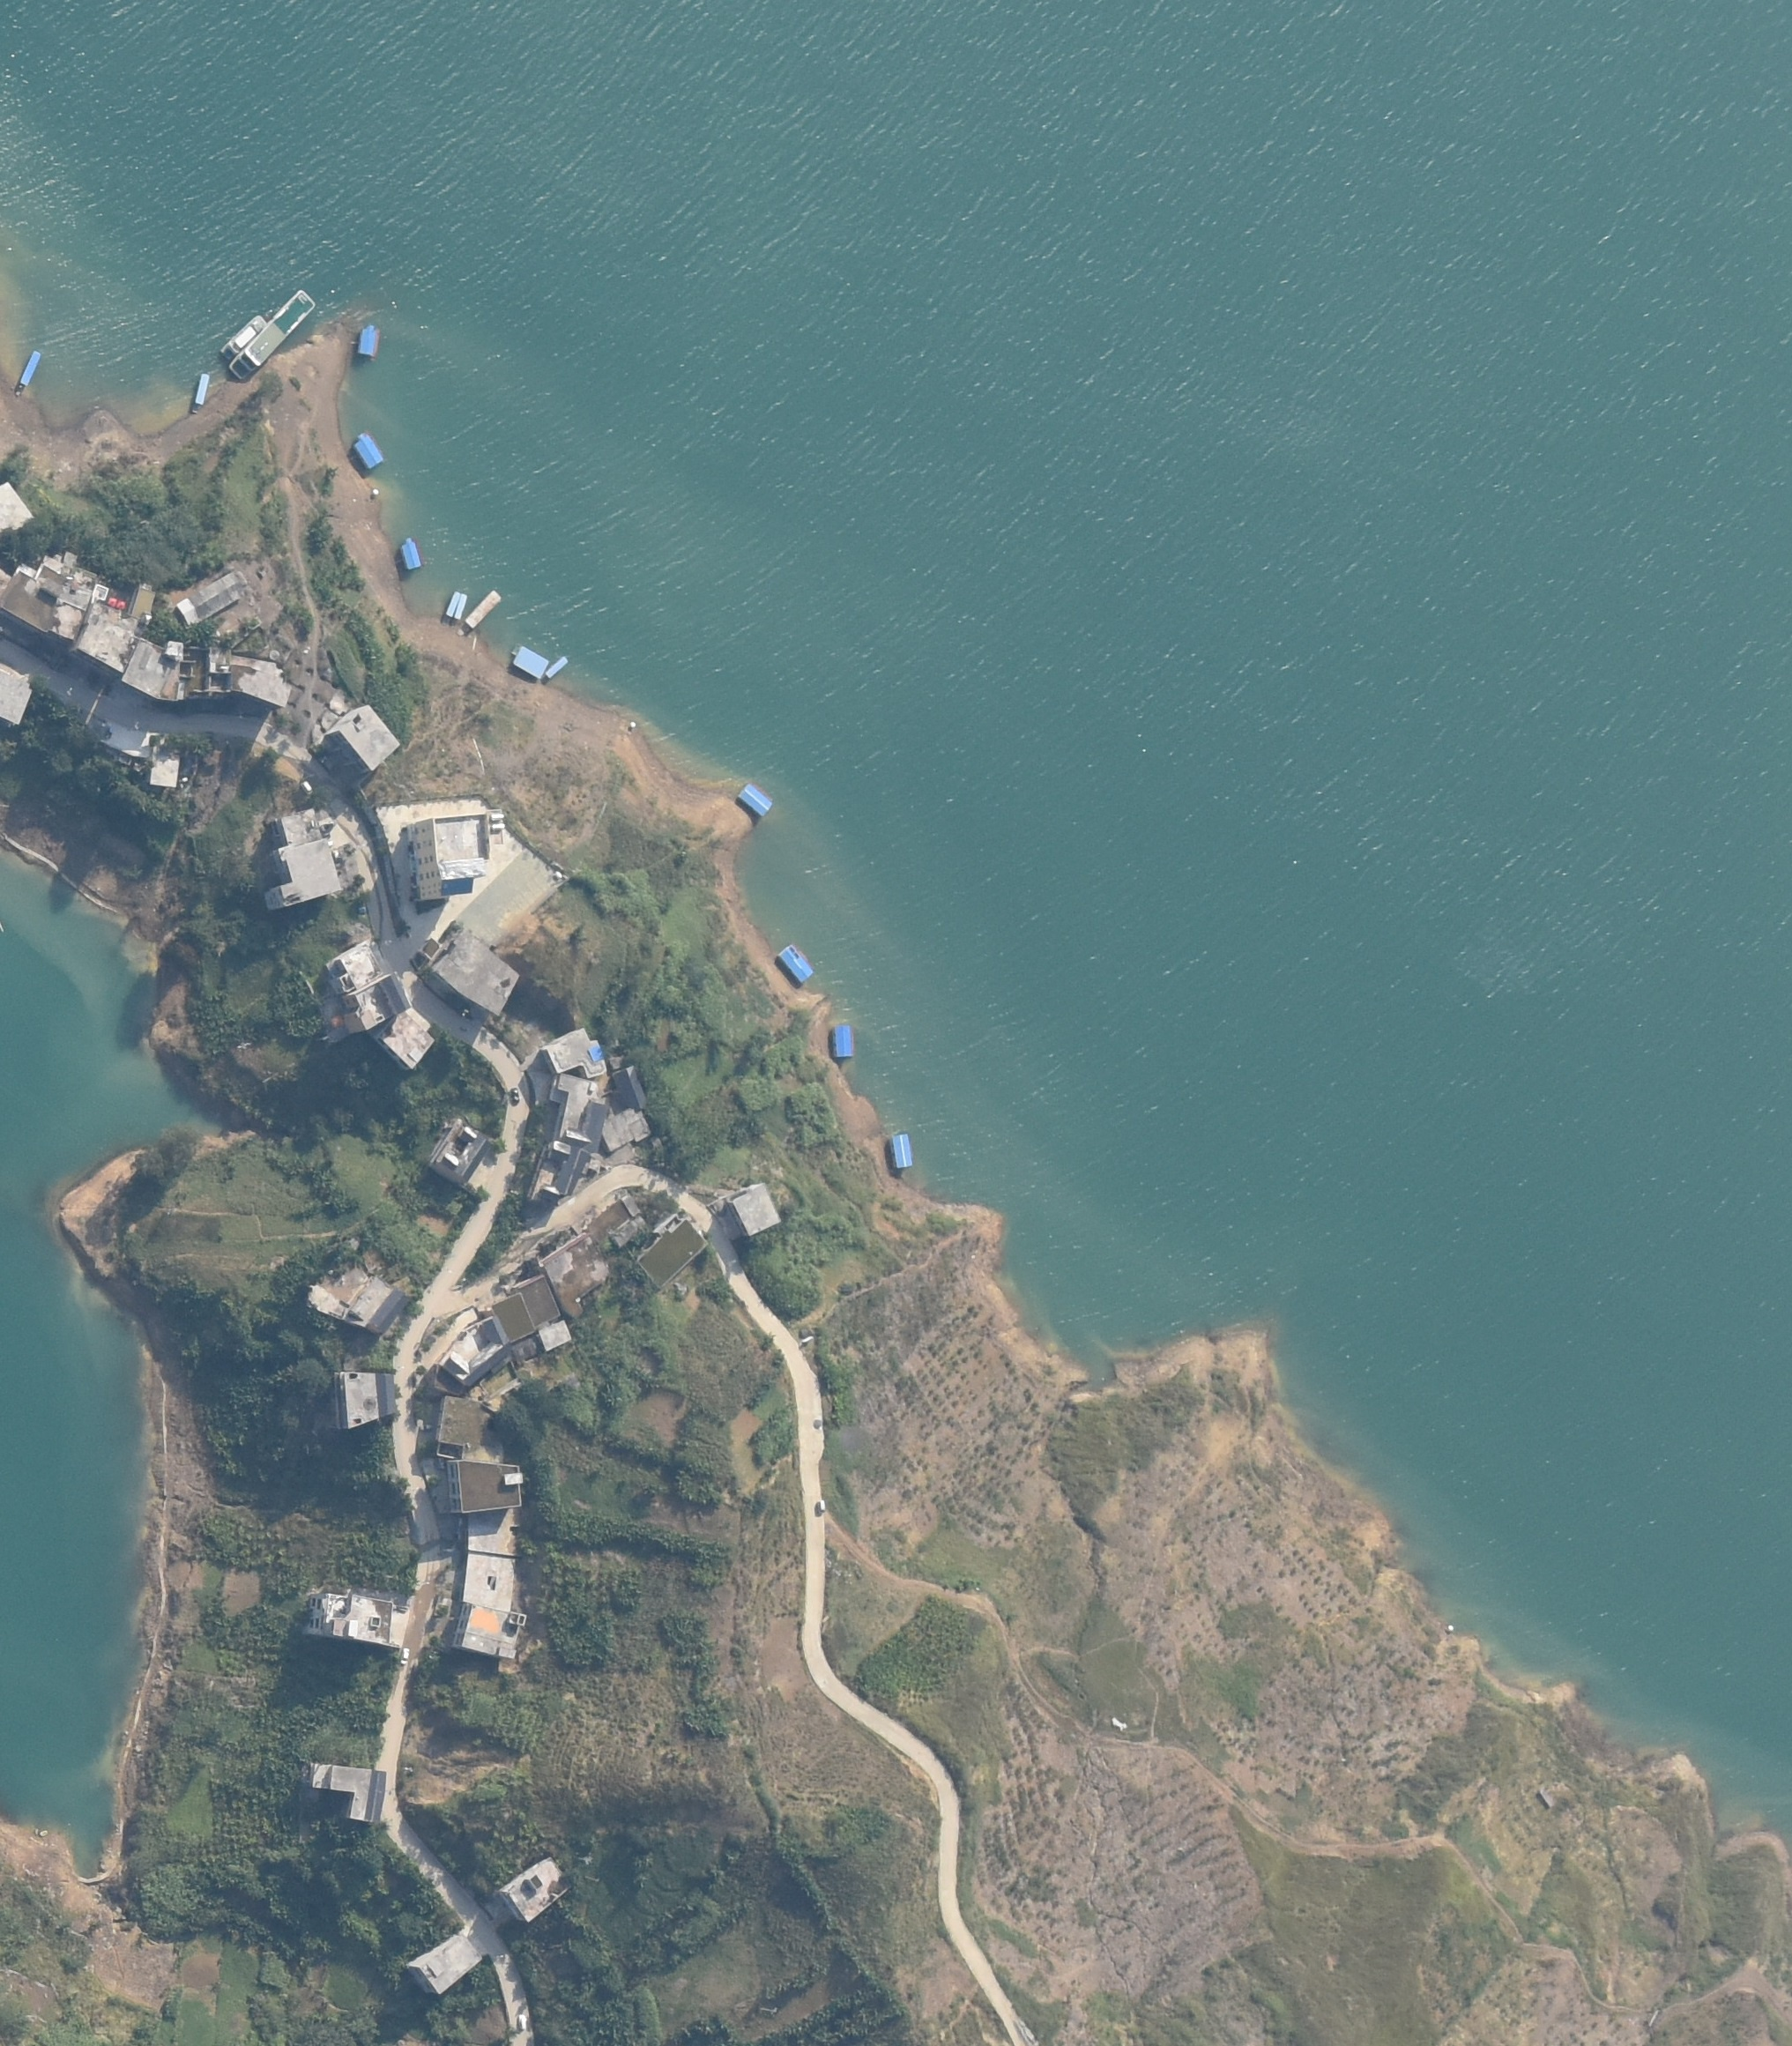building: (2, 552, 92, 644), (419, 929, 517, 1014), (263, 812, 341, 912), (411, 811, 494, 899), (78, 583, 153, 677), (442, 1314, 515, 1385), (325, 703, 400, 772), (545, 1235, 607, 1317), (640, 1218, 705, 1291), (306, 1592, 391, 1646), (310, 1764, 384, 1825), (409, 1935, 484, 1994), (548, 1073, 605, 1150), (499, 1856, 567, 1921), (444, 1461, 525, 1514), (428, 1117, 491, 1185), (332, 1371, 397, 1434), (344, 974, 411, 1033), (379, 1006, 435, 1072), (451, 1606, 518, 1660), (124, 639, 181, 701), (541, 1026, 611, 1077), (720, 1183, 779, 1242), (529, 1143, 586, 1204), (228, 656, 292, 710), (459, 1550, 517, 1609), (177, 572, 240, 626), (435, 1394, 487, 1458), (351, 1277, 407, 1333), (461, 1512, 524, 1555), (329, 941, 383, 990), (184, 645, 231, 698), (600, 1110, 652, 1152), (517, 1275, 558, 1324), (491, 1294, 534, 1340), (2, 665, 31, 727), (101, 724, 151, 760), (2, 480, 35, 534), (151, 734, 183, 786), (611, 1065, 647, 1108), (425, 1369, 465, 1397), (611, 1218, 645, 1246), (539, 1322, 571, 1350), (619, 1195, 640, 1216)
prefabricated-house: (778, 945, 814, 985), (736, 781, 772, 819), (510, 645, 548, 680), (351, 431, 383, 470), (353, 324, 379, 358), (889, 1134, 913, 1169), (832, 1025, 854, 1056), (402, 538, 423, 571)
ship: (228, 289, 311, 379), (221, 313, 268, 362), (465, 585, 501, 639), (16, 351, 42, 400), (190, 372, 209, 416), (444, 590, 468, 623), (546, 656, 571, 682)
vehicle: (400, 1648, 411, 1668), (301, 779, 313, 795), (510, 1087, 520, 1105)
